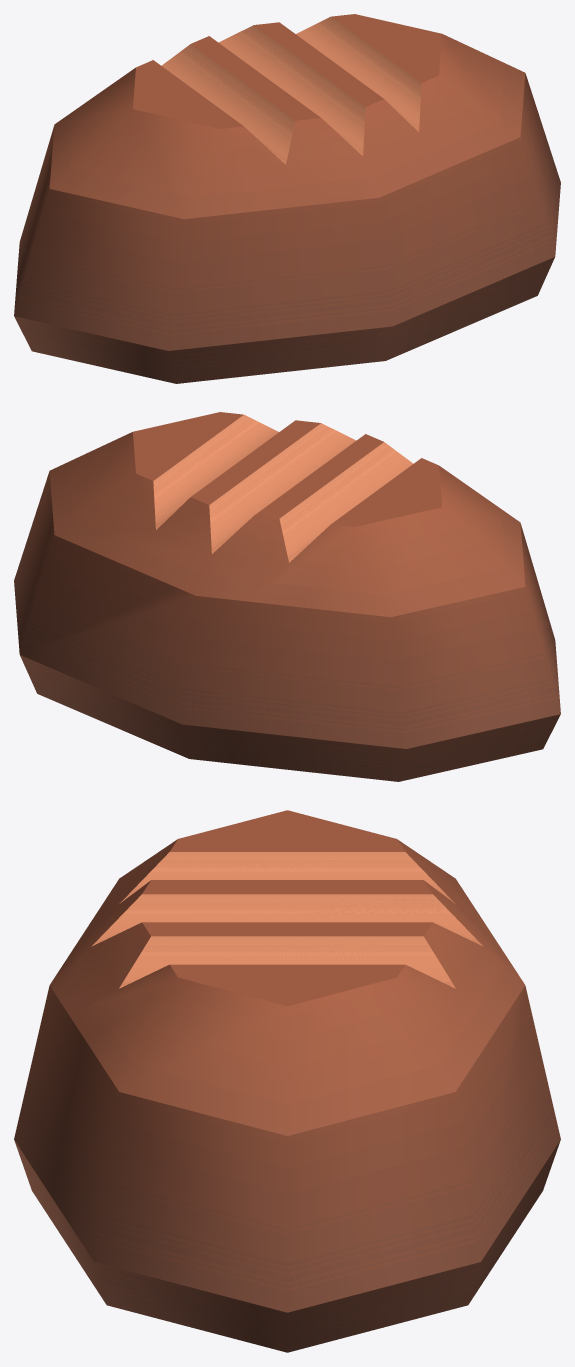
File: loaf-round.glb
The picture shows the model from 3 angles, top to bottom: view 1: azimuth 30°, elevation 25°; view 2: azimuth 150°, elevation 25°; view 3: azimuth 270°, elevation 25°; orthographic projection. The views are drawn at different scales.
Parts seen in each view (by area): view 1: loaf-round; view 2: loaf-round; view 3: loaf-round.
Boxes of the visible parts, x1=… form: loaf-round: x1=14, y1=14, x2=560, y2=383; loaf-round: x1=14, y1=412, x2=560, y2=781; loaf-round: x1=14, y1=810, x2=560, y2=1352.
Bounding box in the file's own units: 0.7717 × 0.2932 × 0.5145.
1 material, 1 textured.
